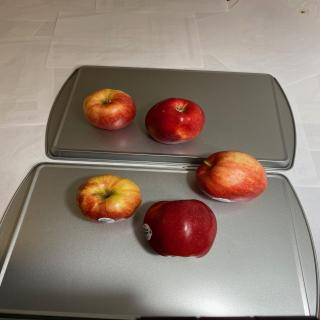Apple: (143, 199, 217, 258), (195, 150, 268, 203), (76, 174, 142, 223), (145, 98, 205, 144), (82, 88, 136, 130)
